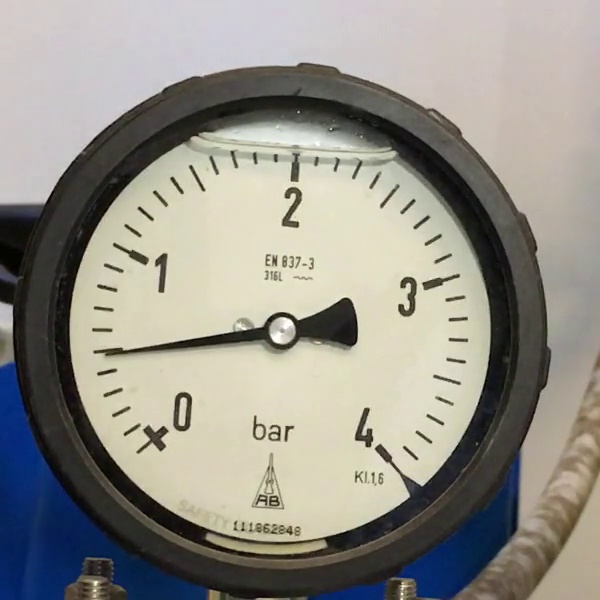base: (263, 312, 297, 350)
circle_plate: (69, 128, 494, 549)
maximum: (372, 443, 392, 462)
minimum: (142, 423, 169, 452)
number: (278, 183, 303, 230), (396, 272, 419, 318), (351, 405, 374, 449), (170, 390, 192, 434), (152, 251, 168, 294)
tip: (104, 349, 119, 359)
